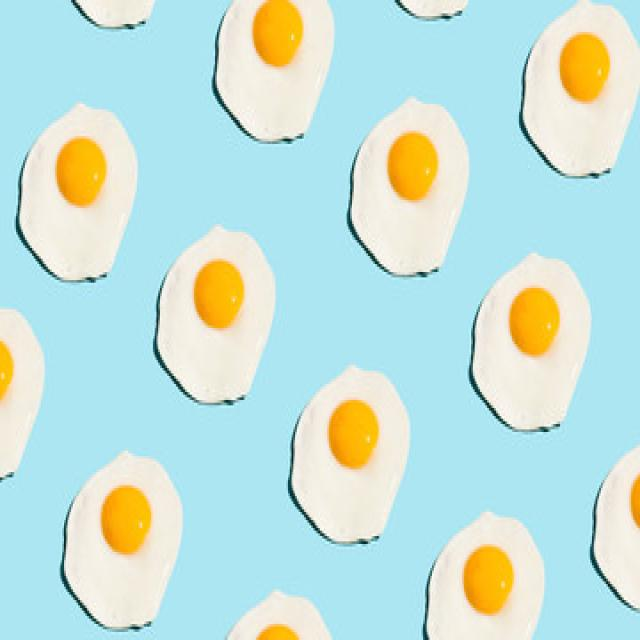Egg: (19, 103, 138, 280), (156, 225, 275, 402), (350, 98, 469, 275), (291, 366, 410, 543), (471, 253, 590, 428), (64, 452, 182, 627), (522, 2, 640, 175), (215, 0, 334, 142), (429, 512, 545, 639), (594, 444, 640, 608), (0, 309, 44, 477), (228, 591, 331, 638)
